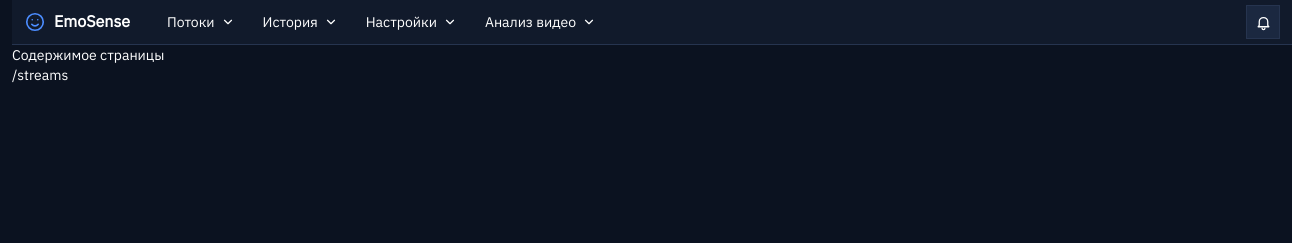
Test: Toolbar menus › closes on an outside click
This screenshot has width=1292, height=243.
What coordinates should you click on to do the following:
click the button "Настройки"
I would click on:
 (411, 22)
Its box is [353,4,470,40].
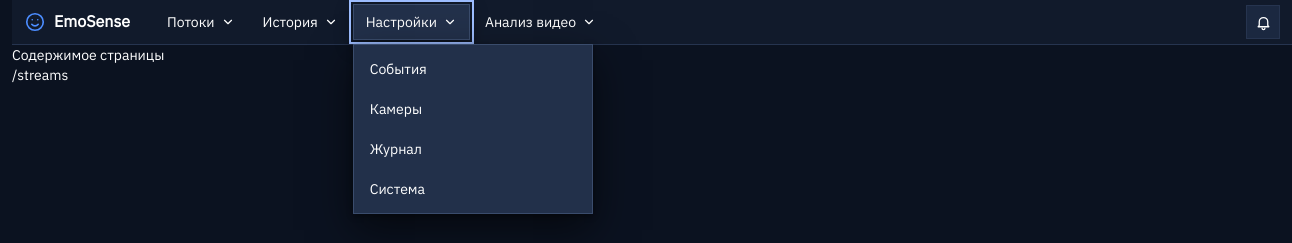
Result: the menu is shown at [353,44,593,214]
What coordinates should you click on to do the following:
click the text "Содержимое страницы"
I would click on:
 (88, 55)
Its box is [12,46,164,64].
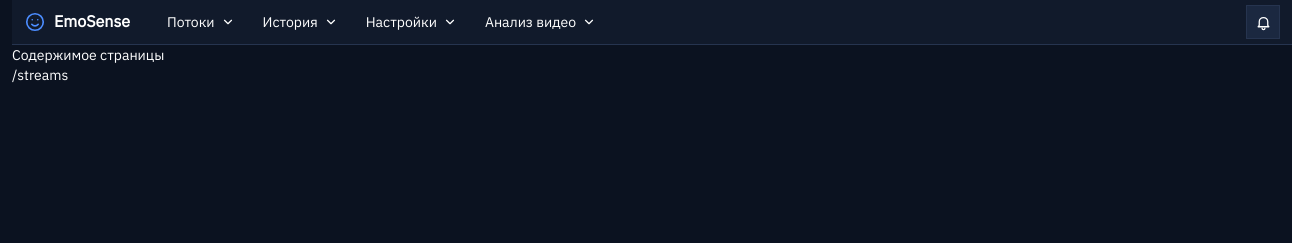
Expected: the text with test id "where" reads "/streams", [12,66,68,84]
Result: the menu is gone
